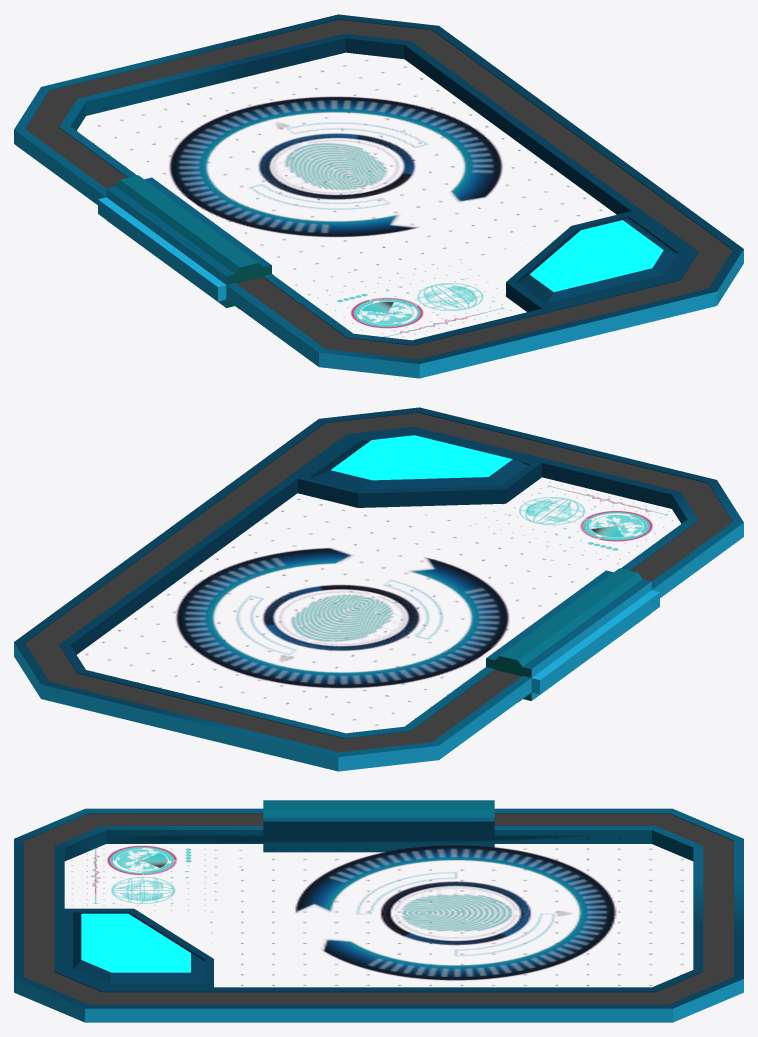
File: Fingerprint_Access_Card.glb
3 renders of one model, top to bottom at view 1: azimuth 30°, elevation 25°; view 2: azimuth 150°, elevation 25°; view 3: azimuth 270°, elevation 25°, orthographic. The views are drawn at different scales.
Visible parts, largest first — view 1: SciFiKey_Fingerprint; view 2: SciFiKey_Fingerprint; view 3: SciFiKey_Fingerprint.
Part boxes in pixels (x1,y1,x2,y2): SciFiKey_Fingerprint: (14,14,743,378); SciFiKey_Fingerprint: (14,407,743,771); SciFiKey_Fingerprint: (14,800,743,1022).
Size of what is drawn, in the model's own units: 0.6157 by 0.0572 by 0.931.
2 materials, 2 textured.
